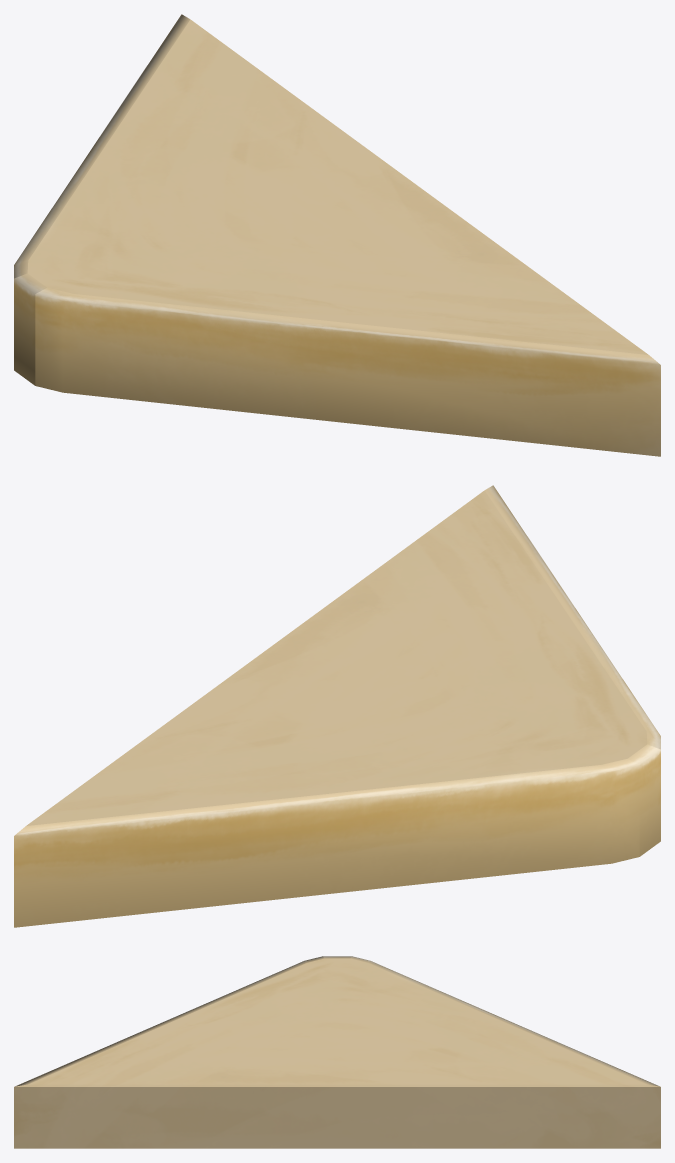
File: ramp.fbx
3 renders of one model, top to bottom at view 1: azimuth 30°, elevation 25°; view 2: azimuth 150°, elevation 25°; view 3: azimuth 270°, elevation 25°, orthographic. The views are drawn at different scales.
Visible parts, largest first — view 1: Box091; view 2: Box091; view 3: Box091.
Boxes of the visible parts, x1,y1,x2,y2 form: Box091: [14, 14, 660, 456]; Box091: [14, 485, 660, 927]; Box091: [14, 956, 660, 1148].
Bounding box in the file's own units: 8.79 × 2 × 18.38.
Materials: 1 (1 with a texture image).
